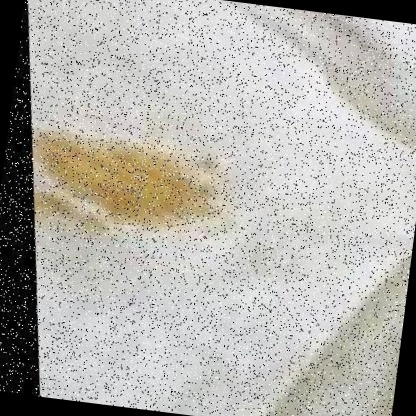coffee: (21, 118, 216, 243)
